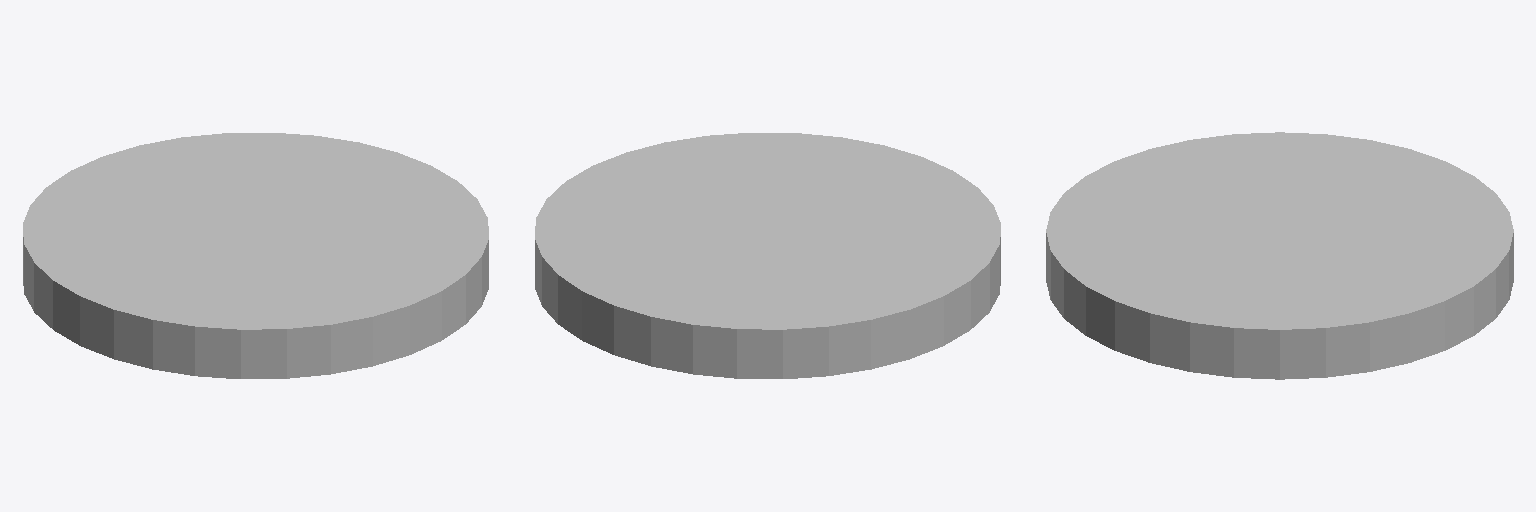
Rendered from BumperTest.obj.
3 views of the same model, side by side, from view 1: azimuth 30°, elevation 25°; view 2: azimuth 150°, elevation 25°; view 3: azimuth 270°, elevation 25° (orthographic).
Visible parts, largest first — view 1: 円柱; view 2: 円柱; view 3: 円柱.
Part boxes in pixels (bbox=[...]): 円柱: bbox=[23, 133, 488, 378]; 円柱: bbox=[535, 133, 1000, 378]; 円柱: bbox=[1046, 132, 1513, 379].
Bounding box in the file's own units: 2 × 0.2345 × 2.